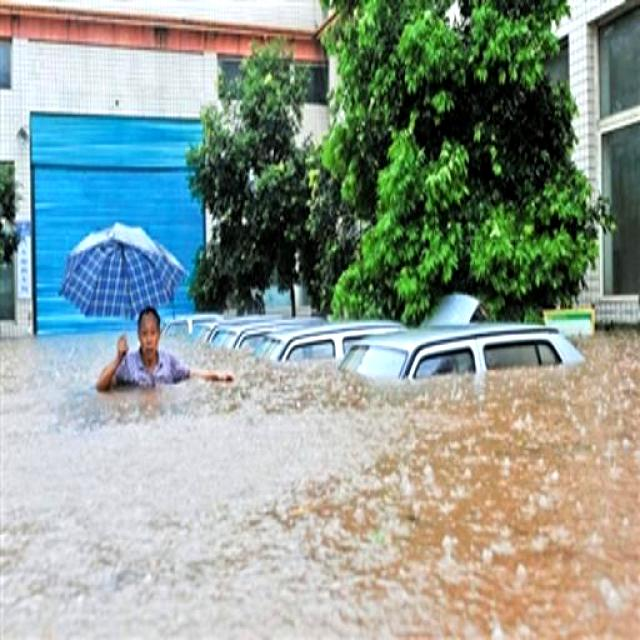civilian: (96, 295, 221, 411)
